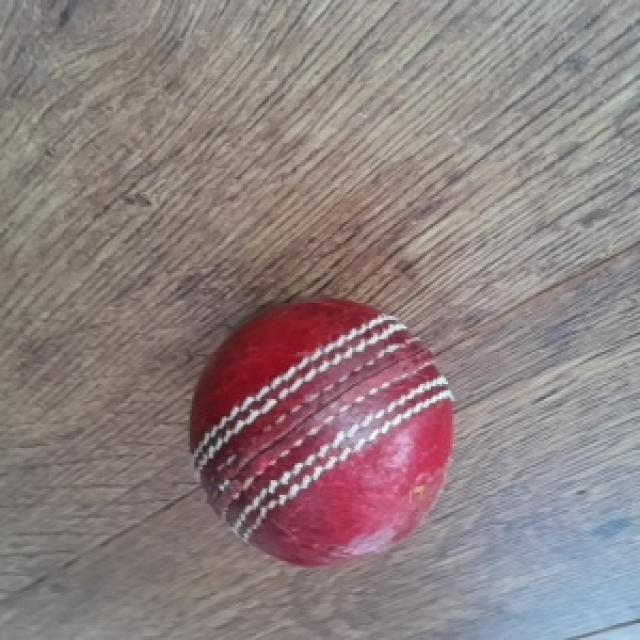ball: (195, 297, 457, 576)
